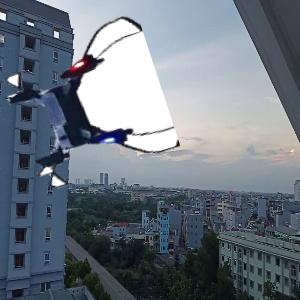drone: (9, 31, 165, 187)
